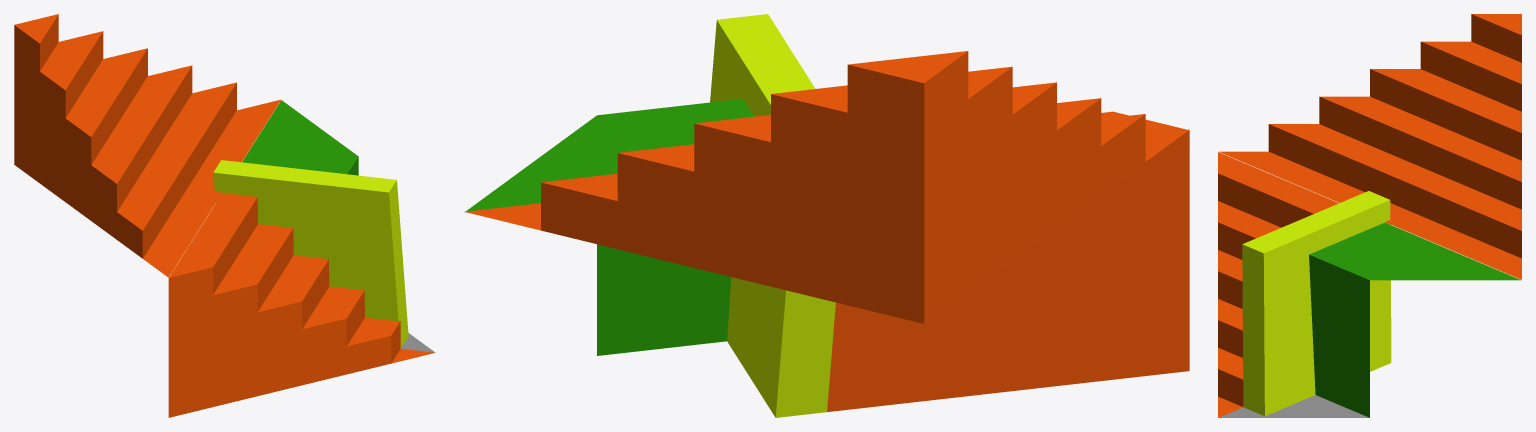
3 views of the same model, side by side, from view 1: azimuth 30°, elevation 25°; view 2: azimuth 150°, elevation 25°; view 3: azimuth 270°, elevation 25° (orthographic). The views are drawn at different scales.
Visible parts, largest first — view 1: T_27_b_0; view 2: T_27_b_0; view 3: T_27_b_0.
Boxes of the visible parts, left/top/right/bottom form: T_27_b_0: left=14, top=14, right=435, bottom=417; T_27_b_0: left=464, top=14, right=1189, bottom=417; T_27_b_0: left=1218, top=14, right=1521, bottom=417.
Size of the model in its own units: 99.79 by 99.96 by 99.81.
